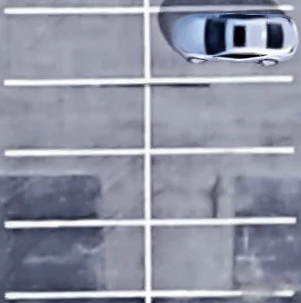Occupied: (147, 8, 292, 79)
Vacant: (147, 222, 295, 296), (3, 10, 148, 82), (146, 80, 293, 151), (3, 224, 148, 295), (146, 152, 295, 221), (3, 152, 147, 223), (3, 82, 147, 151)
